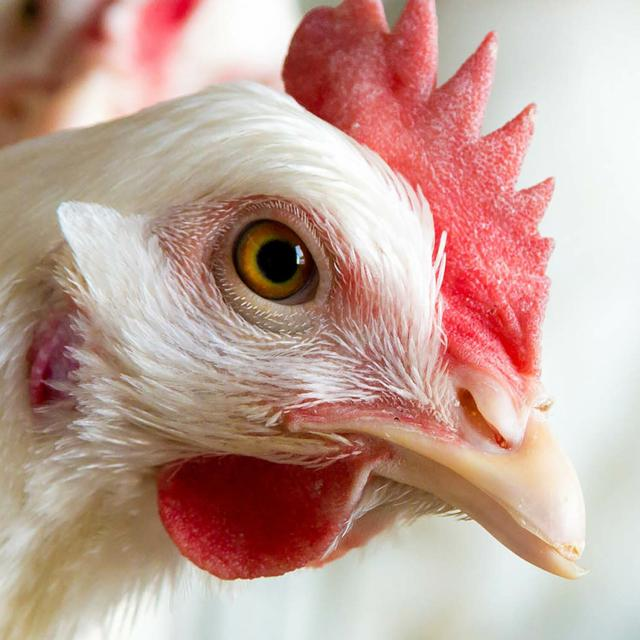Healthy: (1, 2, 588, 586)
